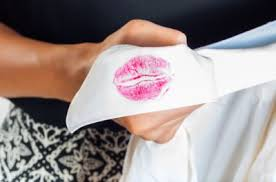kimchi: (113, 59, 174, 100)
